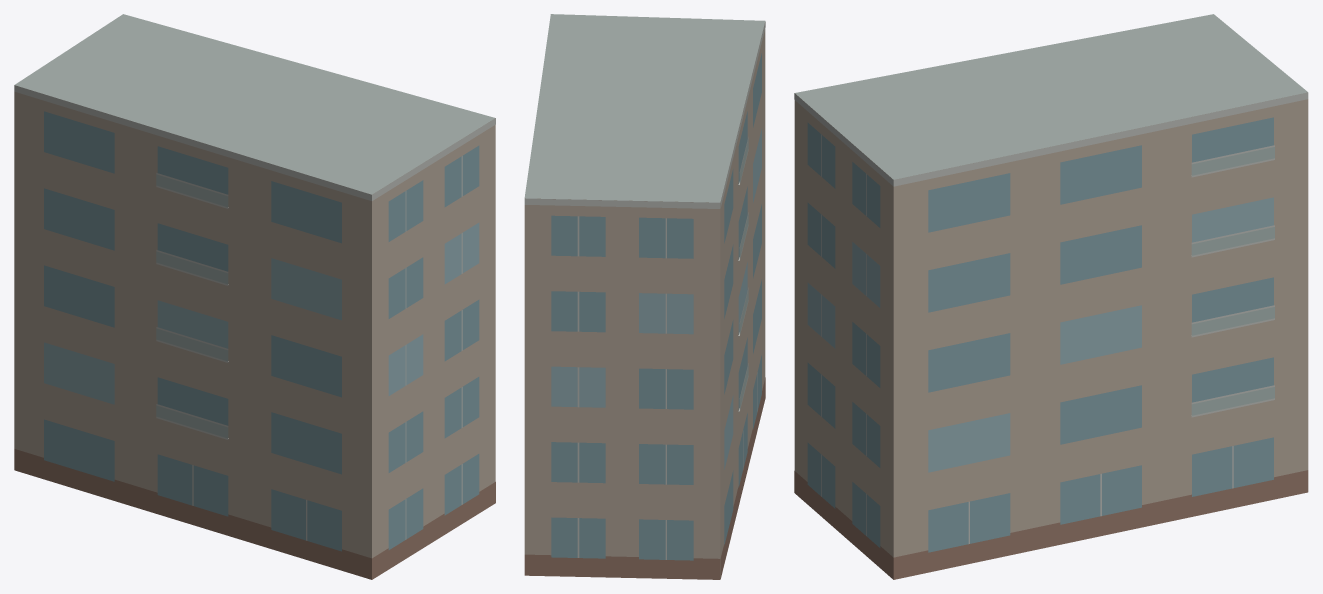
The model's file is survey-upis-32997493.glb.
3 renders of one model, left to right at view 1: azimuth 30°, elevation 25°; view 2: azimuth 150°, elevation 25°; view 3: azimuth 270°, elevation 25°, orthographic. The views are drawn at different scales.
Visible parts, largest first — view 1: survey-upis-32997493.tmp; view 2: survey-upis-32997493.tmp; view 3: survey-upis-32997493.tmp.
Boxes of the visible parts, x1,y1,x2,y2 form: survey-upis-32997493.tmp: [14, 14, 495, 579]; survey-upis-32997493.tmp: [524, 14, 765, 579]; survey-upis-32997493.tmp: [794, 14, 1308, 579].
Size of the model in its own units: 12.82 by 14.4 by 16.77.
